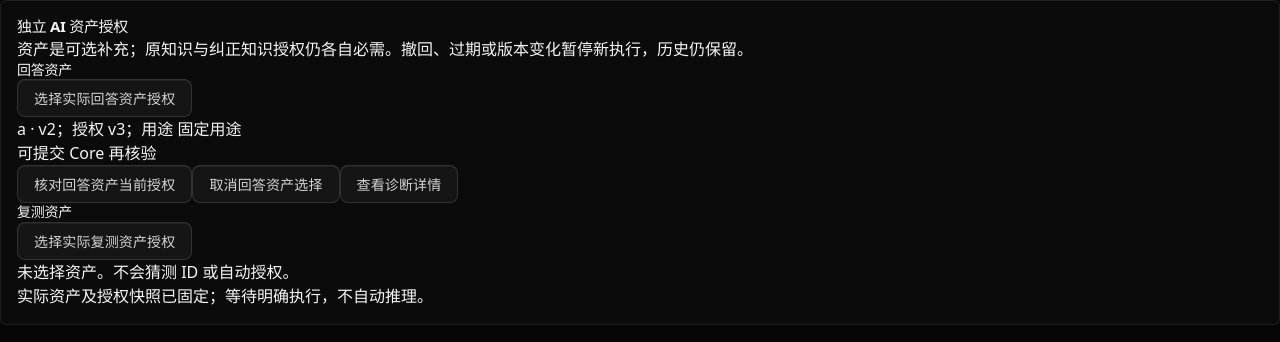
Test: refresh after revoke keeps original snapshot and marks unavailable rather than upgrading
The width and height of the screenshot is (1280, 342).
Check: the text "a · v2；授权 v3；用途 固定用途" is shown, box [17,118,242,140]
Click the button "核对回答资产当前授权": (105, 184) [17,165,192,203]
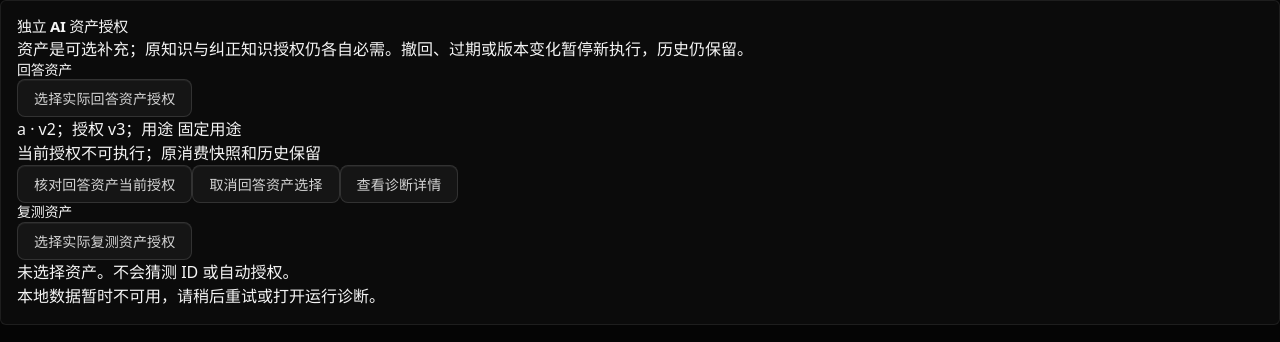
Check: the text "当前授权不可执行；原消费快照和历史保留" is shown, box [17,142,321,164]
